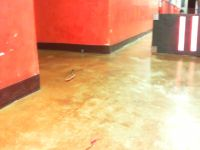switch: (190, 16, 199, 52), (177, 16, 186, 51)
